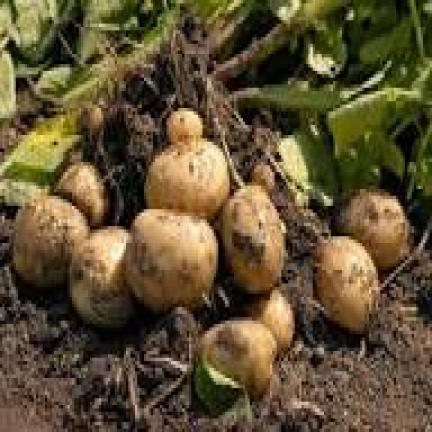potato: (126, 209, 216, 310), (14, 196, 88, 284), (144, 138, 227, 216), (223, 186, 284, 290), (315, 236, 378, 331), (200, 317, 274, 395), (70, 230, 130, 324), (340, 189, 410, 267), (56, 165, 106, 223), (247, 290, 292, 351), (171, 111, 200, 142), (250, 162, 274, 189)
